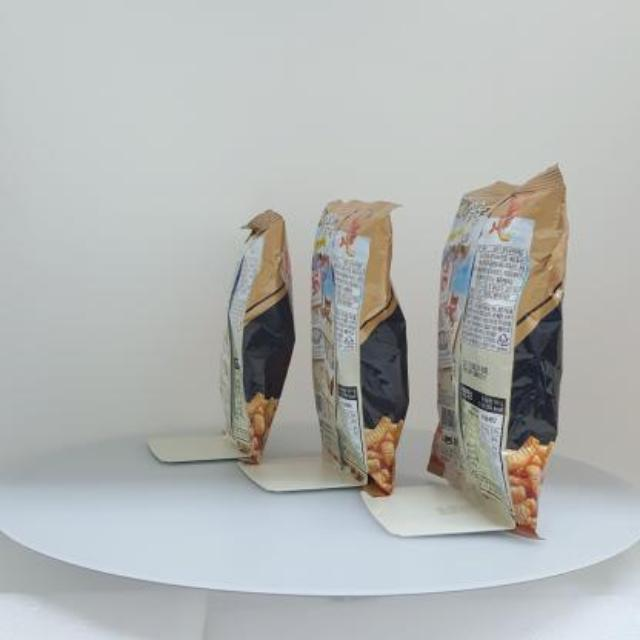snack_bag: (182, 151, 584, 555)
